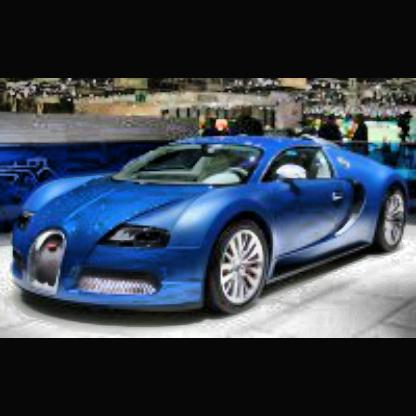Bugatti Veyron 16-4 Coupe 2009: (10, 118, 416, 328)
